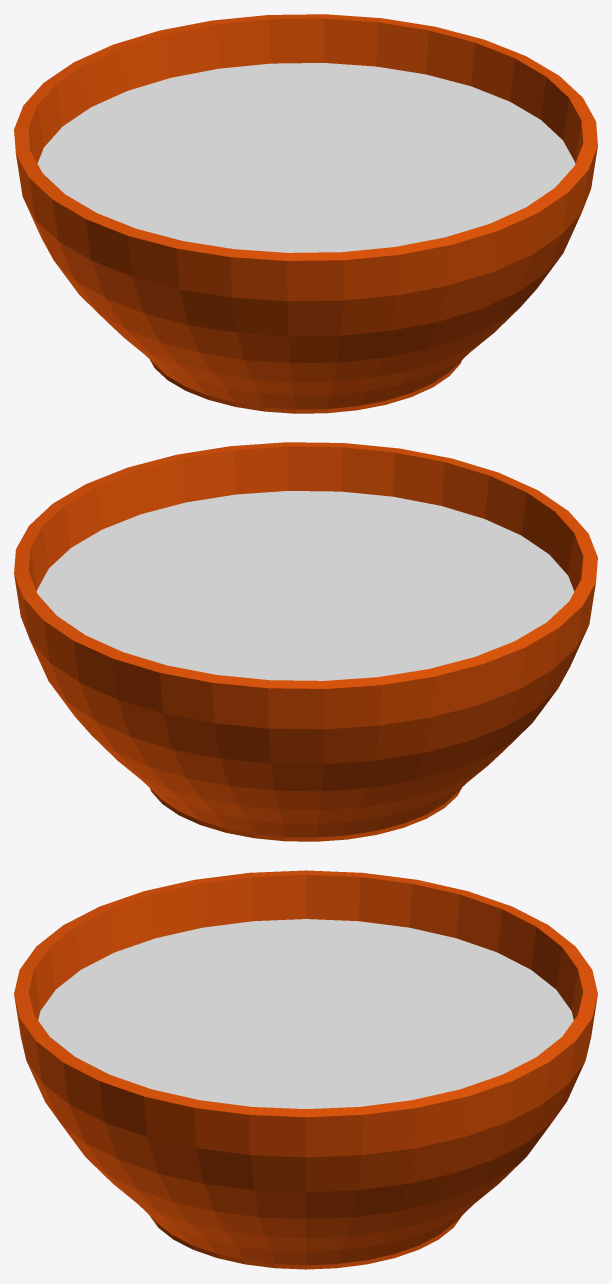
Rendered from Red_Dust.fbx.
3 renders of one model, top to bottom at view 1: azimuth 30°, elevation 25°; view 2: azimuth 150°, elevation 25°; view 3: azimuth 270°, elevation 25°, orthographic.
Parts seen in each view (by area): view 1: Cylinder; view 2: Cylinder; view 3: Cylinder.
Boxes of the visible parts, left/top/right/bottom form: Cylinder: left=14, top=14, right=597, bottom=413; Cylinder: left=14, top=442, right=597, bottom=841; Cylinder: left=14, top=870, right=597, bottom=1269.
Bounding box in the file's own units: 275 × 109 × 275.
